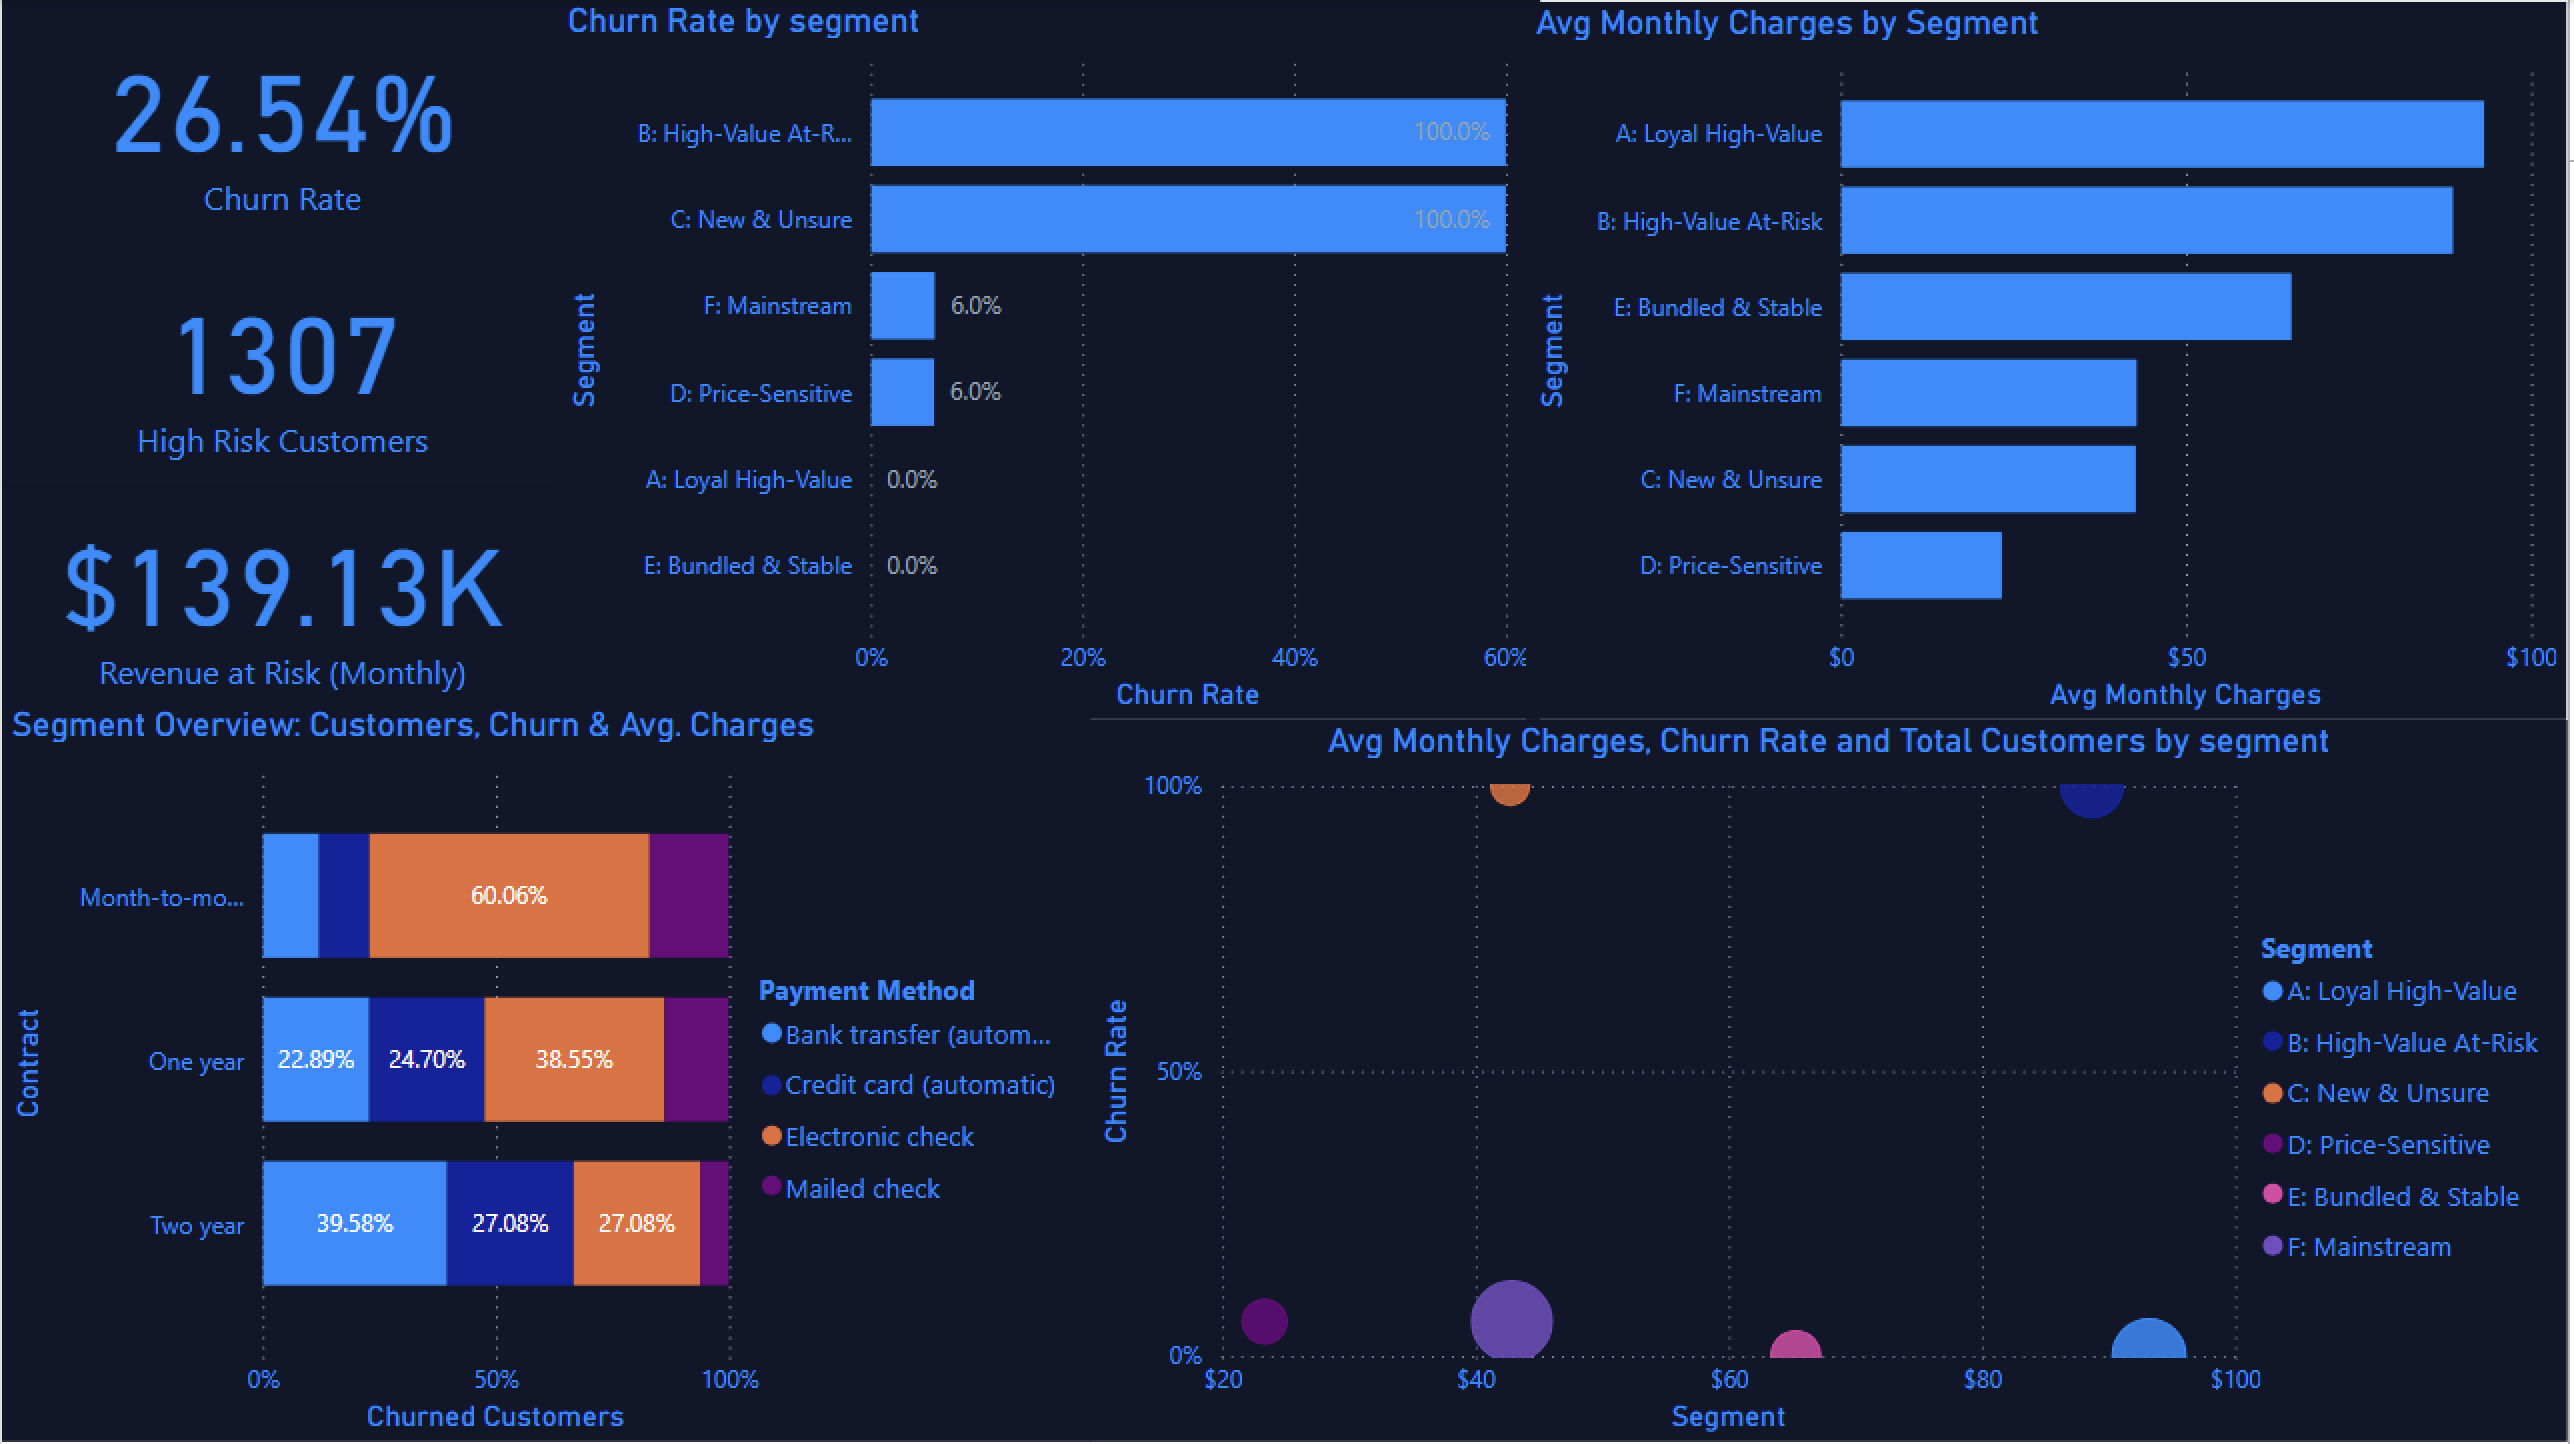

Layout of this report page (visuals, bound fields, positions):
{"tool":"powerbi","page":{"name":"Page 2","canvas":[1280,720],"ordinal":1},"visuals":[{"type":"card","fields":{"Values":["public vw_analysis_ready.Churn Rate"]},"box":[0,0,280.2,119.7],"z":0},{"type":"card","fields":{"Values":["public vw_analysis_ready.Revenue at Risk (Monthly)"]},"box":[0,232.1,280.2,128.4],"z":1000},{"type":"card","fields":{"Values":["public vw_analysis_ready.High Risk Customers"]},"box":[0,119.7,280.2,123.4],"z":2000},{"type":"barChart","fields":{"Category":["public vw_analysis_ready.segment"],"Y":["public vw_analysis_ready.Churn Rate"]},"box":[277.3,0,489.9,359.2],"z":3000},{"type":"clusteredBarChart","title":"Avg Monthly Charges by Segment","fields":{"Category":["public vw_analysis_ready.segment"],"Y":["public vw_analysis_ready.Avg Monthly Charges"]},"box":[760.6,1,519.4,357.9],"z":4000},{"type":"scatterChart","fields":{"X":["public vw_analysis_ready.Avg Monthly Charges"],"Y":["public vw_analysis_ready.Churn Rate"],"Size":["public vw_analysis_ready.Total Customers"],"Series":["public vw_analysis_ready.segment"]},"box":[542.7,359.2,737.3,360.2],"z":5000},{"type":"hundredPercentStackedBarChart","title":"Segment Overview: Customers, Churn & Avg. Charges","fields":{"Category":["public vw_analysis_ready.contract"],"Series":["public vw_analysis_ready.paymentmethod"],"Y":["public vw_analysis_ready.Churned Customers"]},"box":[0,351.2,542.7,368.1],"z":6000}]}

Visuals, with their boxes in screenshot pixels (x1, y1, x2, y2), scaled from the page's 1280x720 canvas onto the 2574x1444 screenshot:
card - public vw_analysis_ready.Churn Rate: 0/0/563/240
card - public vw_analysis_ready.Revenue at Risk (Monthly): 0/465/563/723
card - public vw_analysis_ready.High Risk Customers: 0/240/563/488
barChart - public vw_analysis_ready.segment x public vw_analysis_ready.Churn Rate: 558/0/1543/720
"Avg Monthly Charges by Segment" clusteredBarChart: 1530/2/2573/720
scatterChart - public vw_analysis_ready.Avg Monthly Charges x public vw_analysis_ready.Churn Rate: 1091/720/2573/1443
"Segment Overview: Customers, Churn & Avg. Charges" hundredPercentStackedBarChart: 0/704/1091/1443
